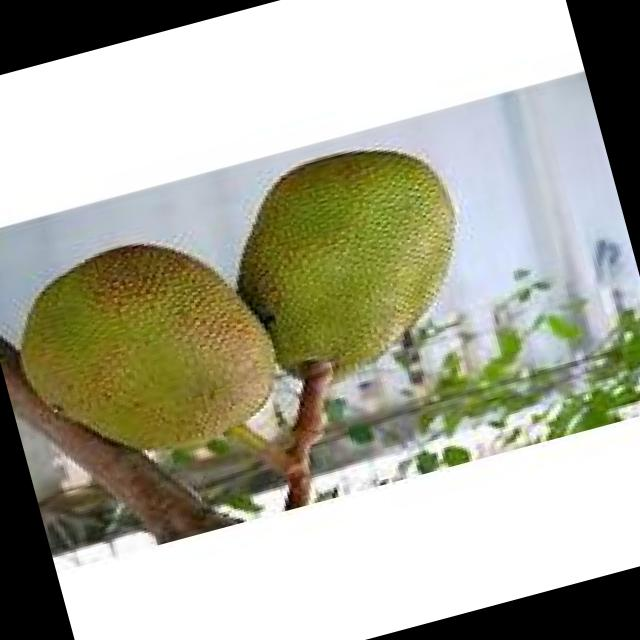Fruit: (0, 194, 311, 503), (197, 119, 497, 414)
